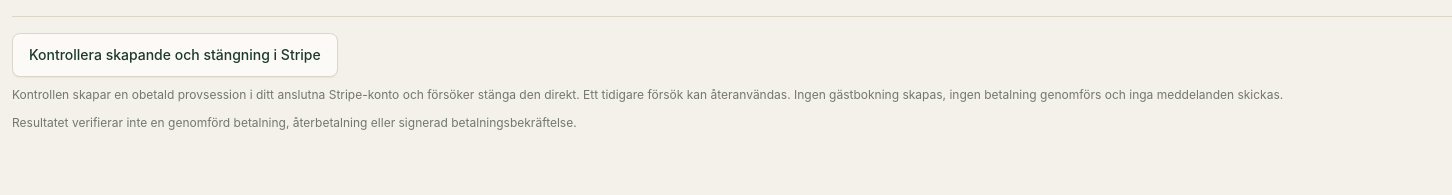
it: explicit owner Stripe create-and-close check › renders fixed text for diagnostic_unavailable and discards unexpected provider/customer fields
What coordinates should you click on to do the following:
click the button "Kontrollera skapande och stängning i Stripe"
I would click on:
 (175, 55)
Its box is x1=12 y1=33 x2=338 y2=77.
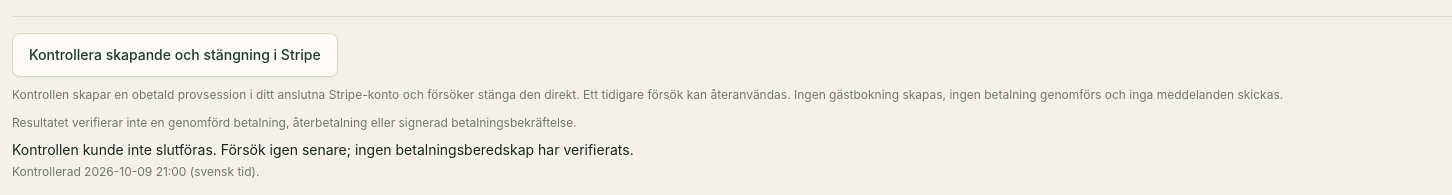
Now the message shows "Kontrollen kunde inte slutföras. Försök igen senare; ingen betalningsberedskap har verifierats.", box x1=12 y1=141 x2=634 y2=158
